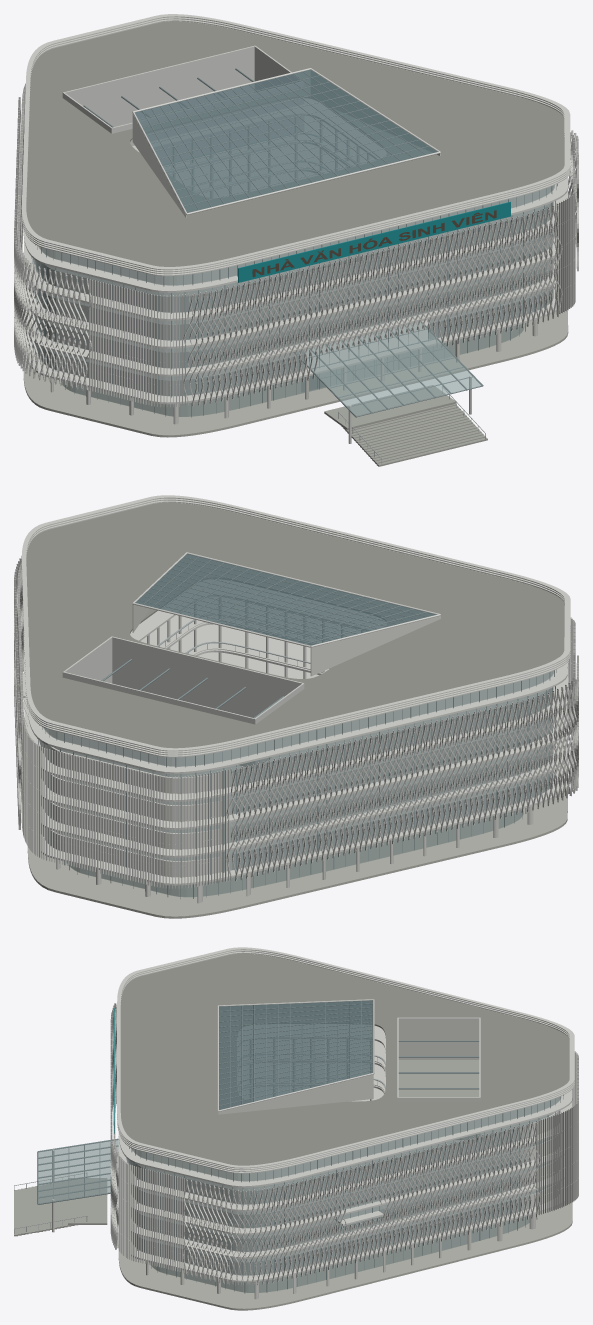
File: student_culture_house.glb
3 renders of one model, top to bottom at view 1: azimuth 30°, elevation 25°; view 2: azimuth 150°, elevation 25°; view 3: azimuth 270°, elevation 25°, orthographic. The views are drawn at different scales.
Visible parts, largest first — view 1: Student_Culture_House; view 2: Student_Culture_House; view 3: Student_Culture_House.
Boxes of the visible parts, x1=… form: Student_Culture_House: x1=14, y1=14, x2=578, y2=466; Student_Culture_House: x1=14, y1=495, x2=578, y2=918; Student_Culture_House: x1=14, y1=947, x2=578, y2=1310.
Size of the model in its own units: 86.27 by 31.54 by 90.85.
